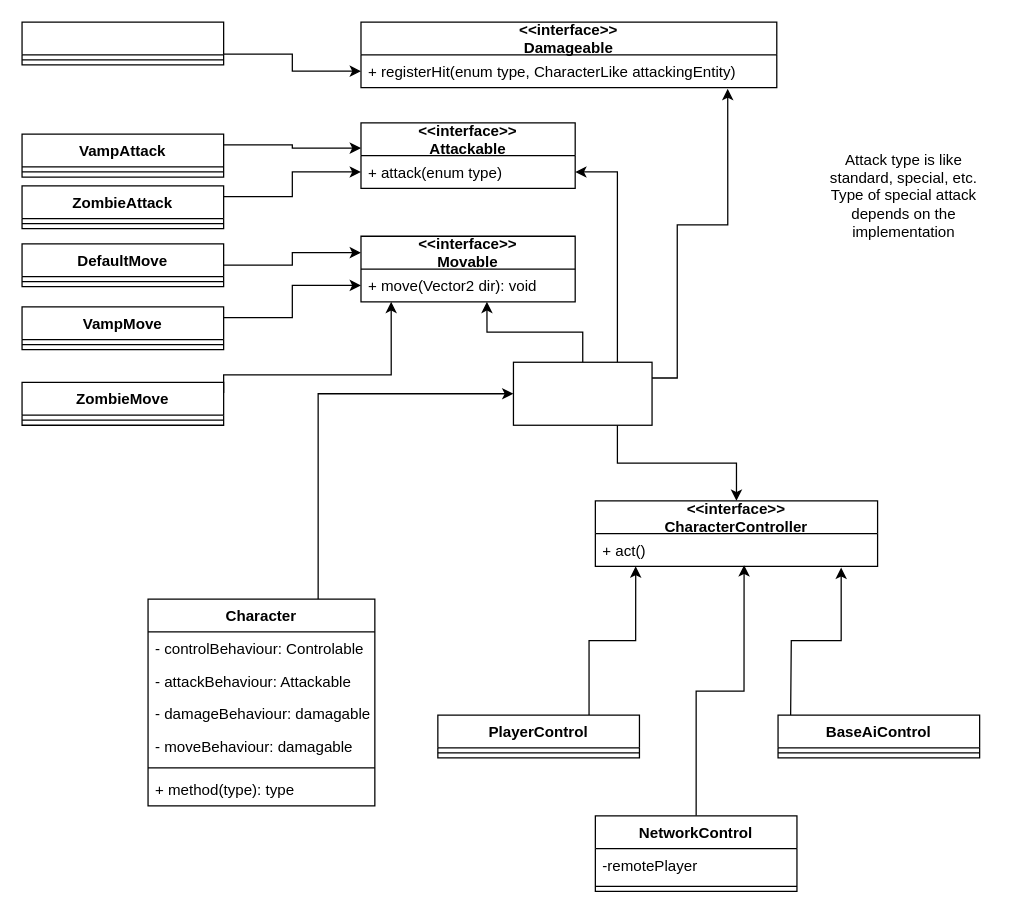
Image size: 1014x914. Some labels were removed from this diagram. Each missing label, with the centre of its shape:
"DefaultDamage" goes at [122,43].
"«interface» CharacterLike" goes at [582,393].
